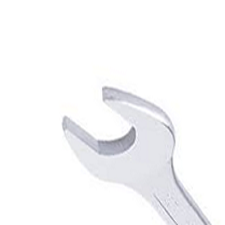wrench: (54, 69, 214, 225)
